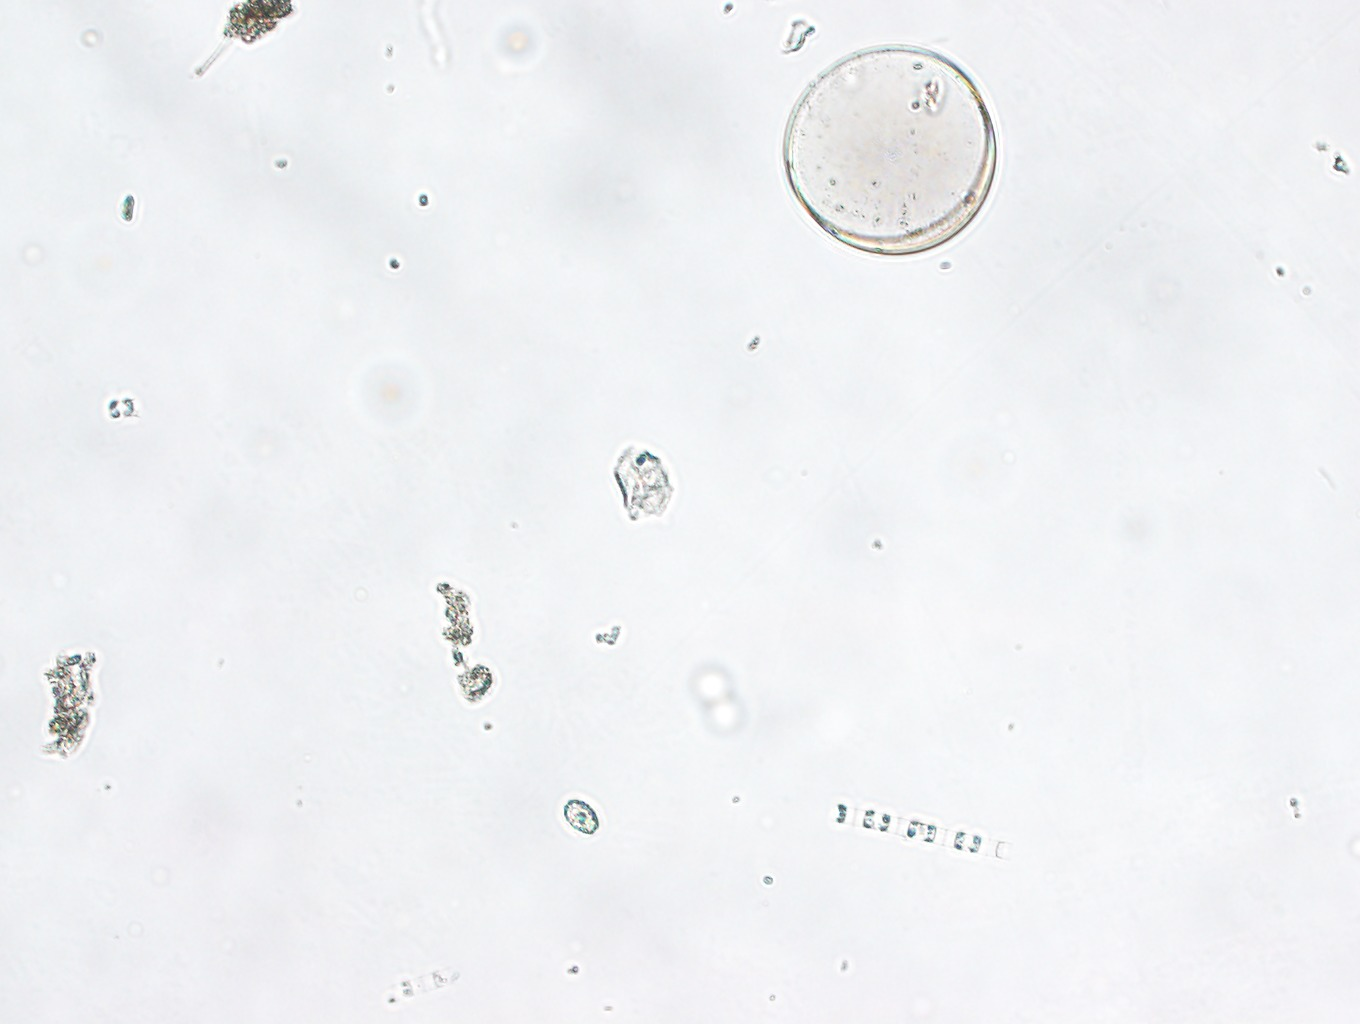coscinodiscus: (778, 42, 1002, 260)
skeletonema: (827, 795, 1014, 872)
